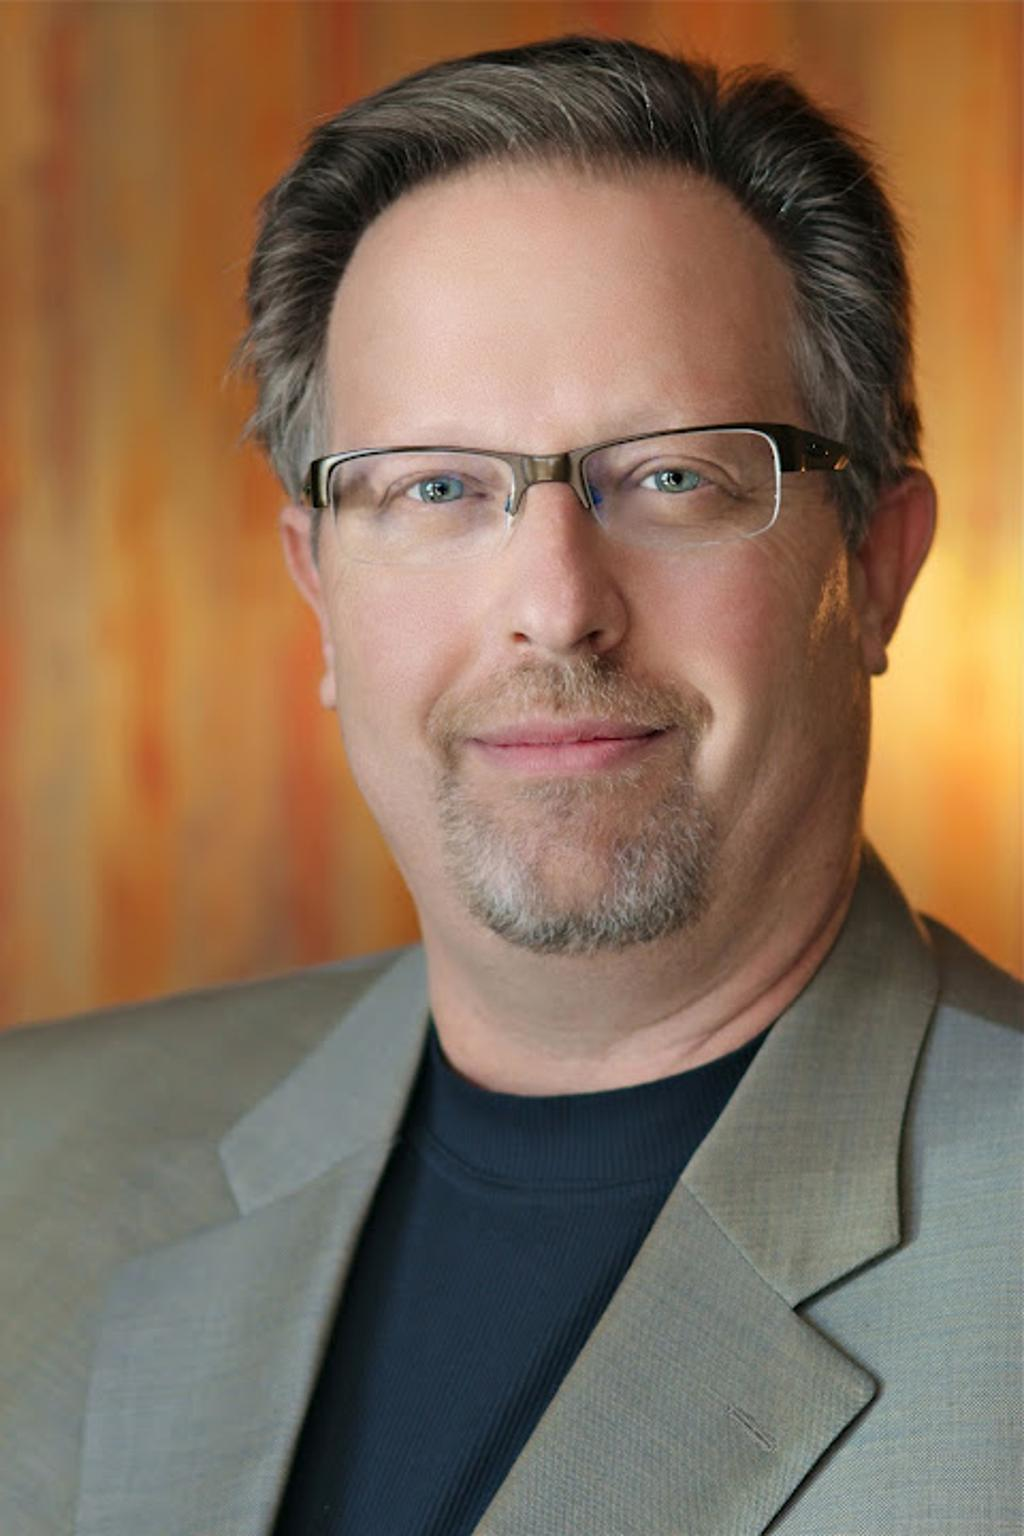face: (325, 169, 860, 935)
